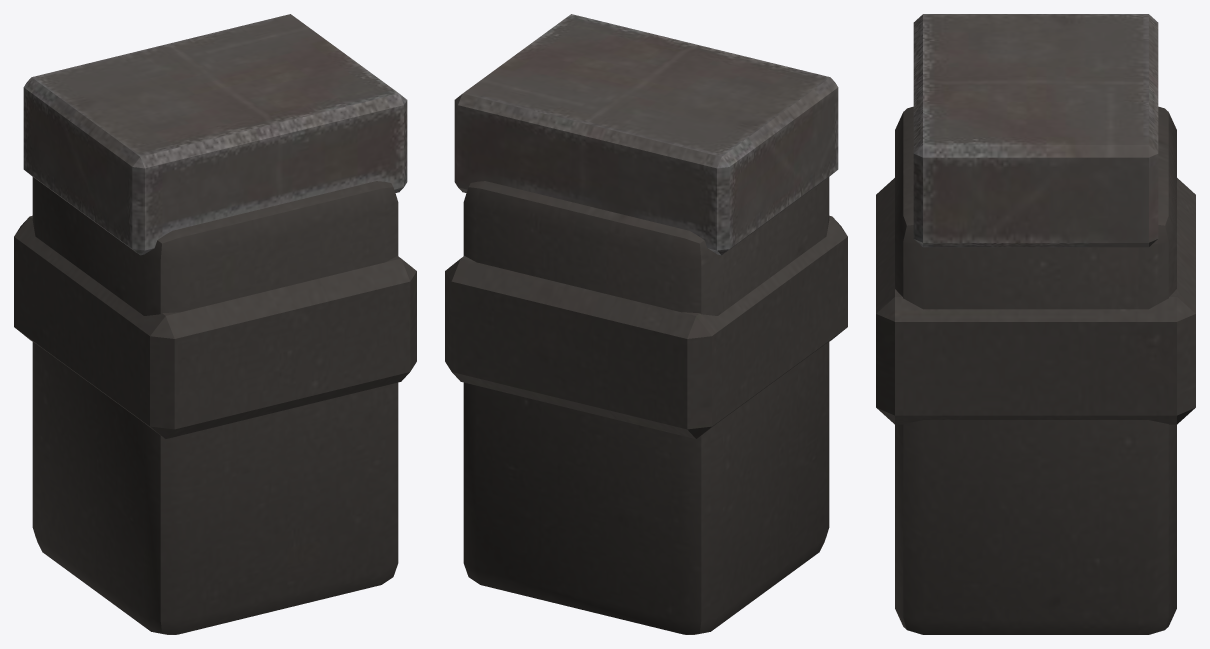
Rendered from knuckle_stub.glb.
3 views of the same model, side by side, from view 1: azimuth 30°, elevation 25°; view 2: azimuth 150°, elevation 25°; view 3: azimuth 270°, elevation 25° (orthographic). The views are drawn at different scales.
Visible parts, largest first — view 1: knuckle_stub; view 2: knuckle_stub; view 3: knuckle_stub.
Part boxes in pixels (x1,y1,x2,y2): knuckle_stub: (14, 14, 416, 634); knuckle_stub: (445, 14, 847, 634); knuckle_stub: (876, 14, 1195, 634).
Size of the model in its own units: 0.035 by 0.059 by 0.034.
Materials: 1 (1 with a texture image).
